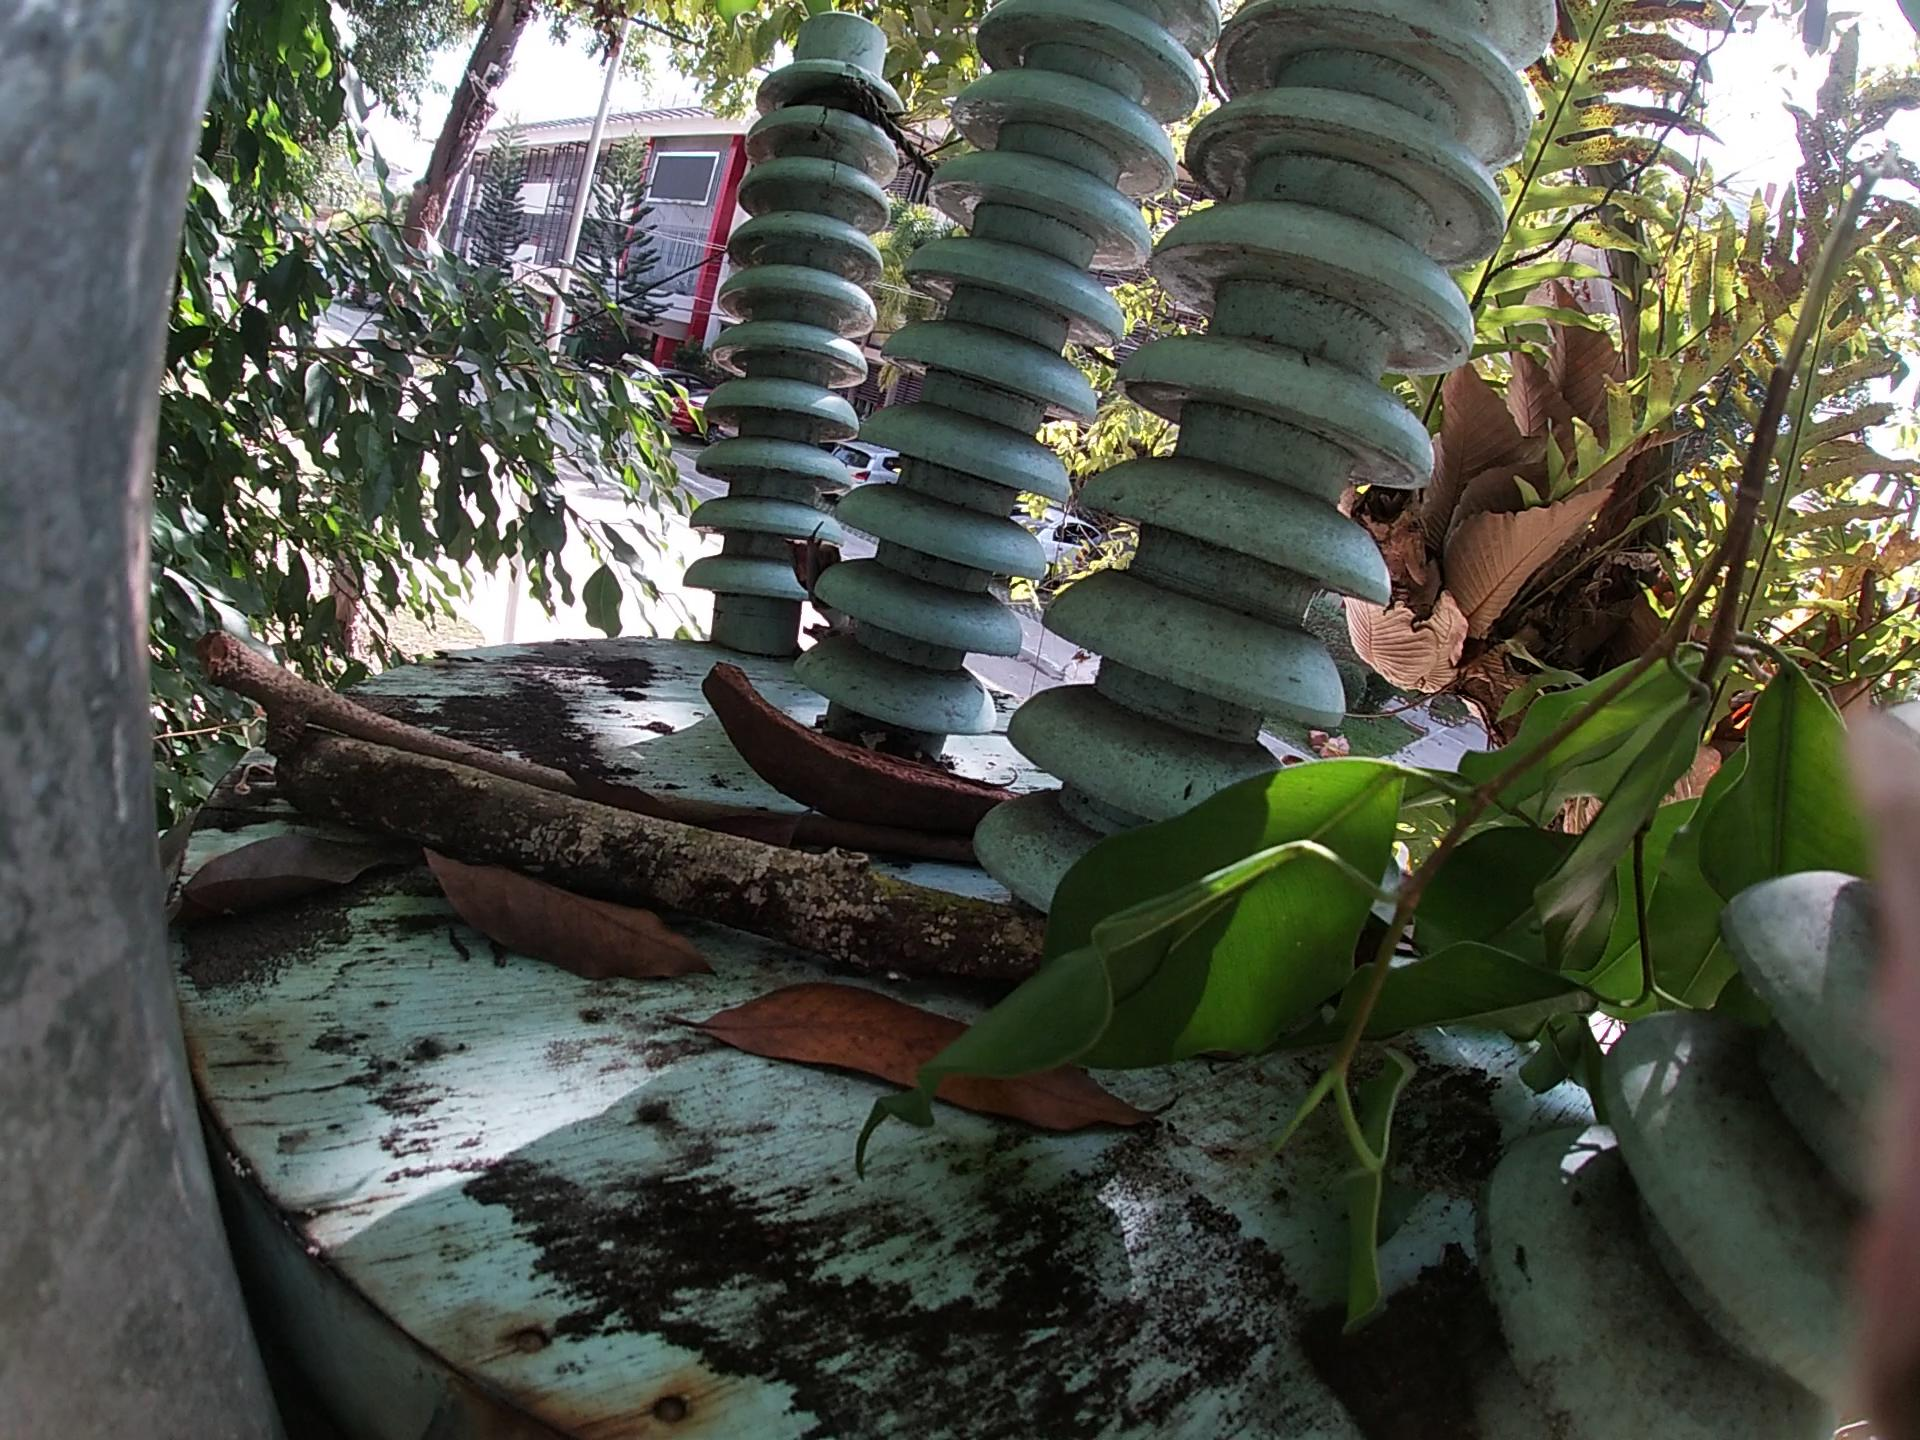branch with leaves: (952, 324, 1890, 1404)
leaf: (688, 974, 1194, 1156), (417, 856, 723, 1003), (169, 821, 379, 909)
mahogany fruit: (700, 667, 1033, 885)
tree branch: (272, 725, 1069, 974), (175, 629, 856, 852)
